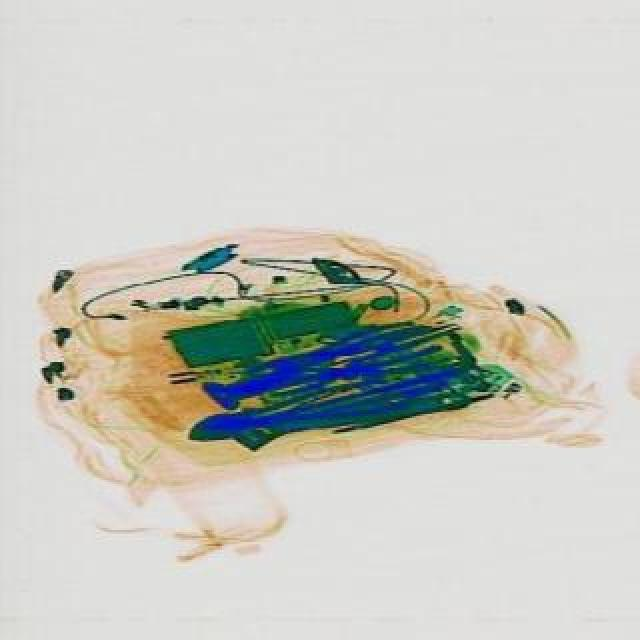scissors: (182, 374, 472, 460)
wrench: (246, 314, 442, 394)
